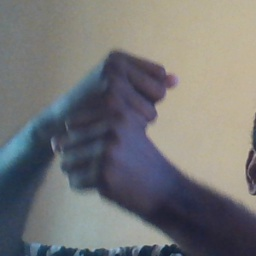G: (49, 45, 180, 196)
